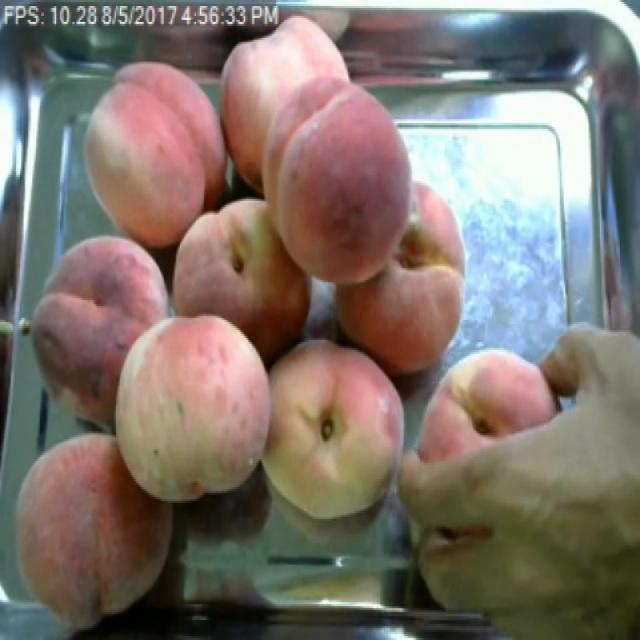Fruit: (393, 336, 640, 640), (92, 298, 289, 523), (0, 411, 193, 639), (15, 221, 186, 463), (247, 80, 425, 298), (251, 326, 413, 531), (76, 50, 229, 260), (328, 171, 476, 386), (160, 185, 324, 370)
